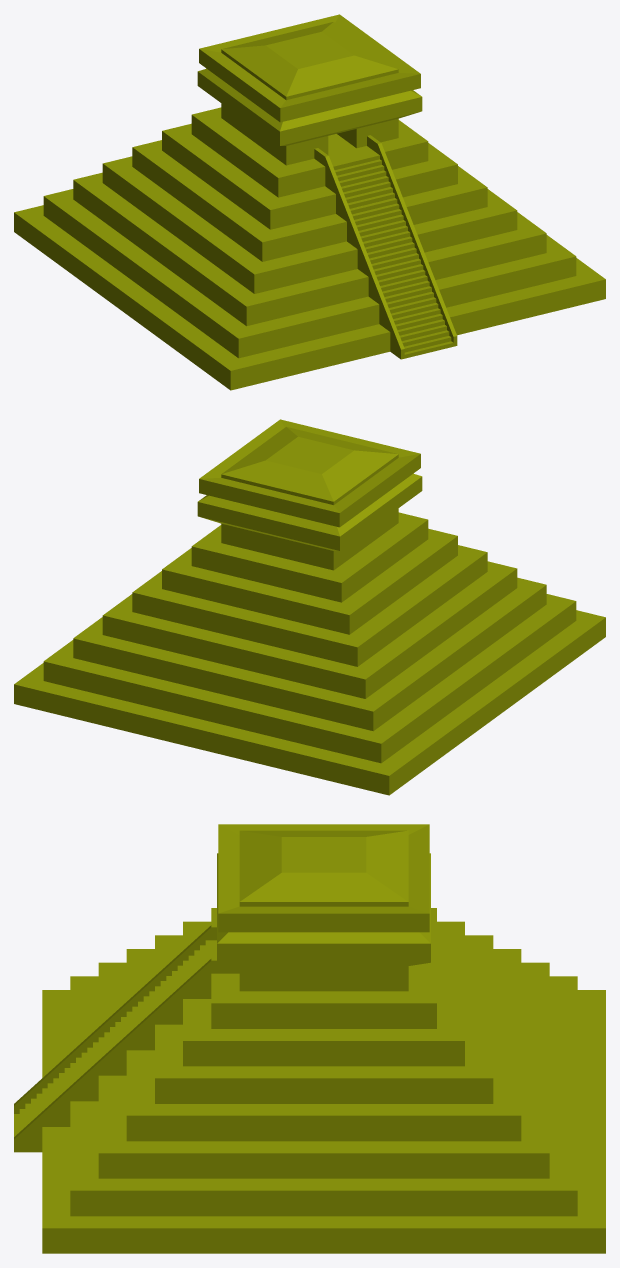
File: temple.glb
3 views of the same model, one above another, from view 1: azimuth 30°, elevation 25°; view 2: azimuth 150°, elevation 25°; view 3: azimuth 270°, elevation 25° (orthographic). The views are drawn at different scales.
Visible parts, largest first — view 1: Pyramid; view 2: Pyramid; view 3: Pyramid.
Boxes of the visible parts, bbox=[...] form: Pyramid: bbox=[14, 14, 605, 390]; Pyramid: bbox=[14, 419, 605, 795]; Pyramid: bbox=[14, 824, 605, 1253].
Size of the model in its own units: 2000 by 1095 by 2100.
